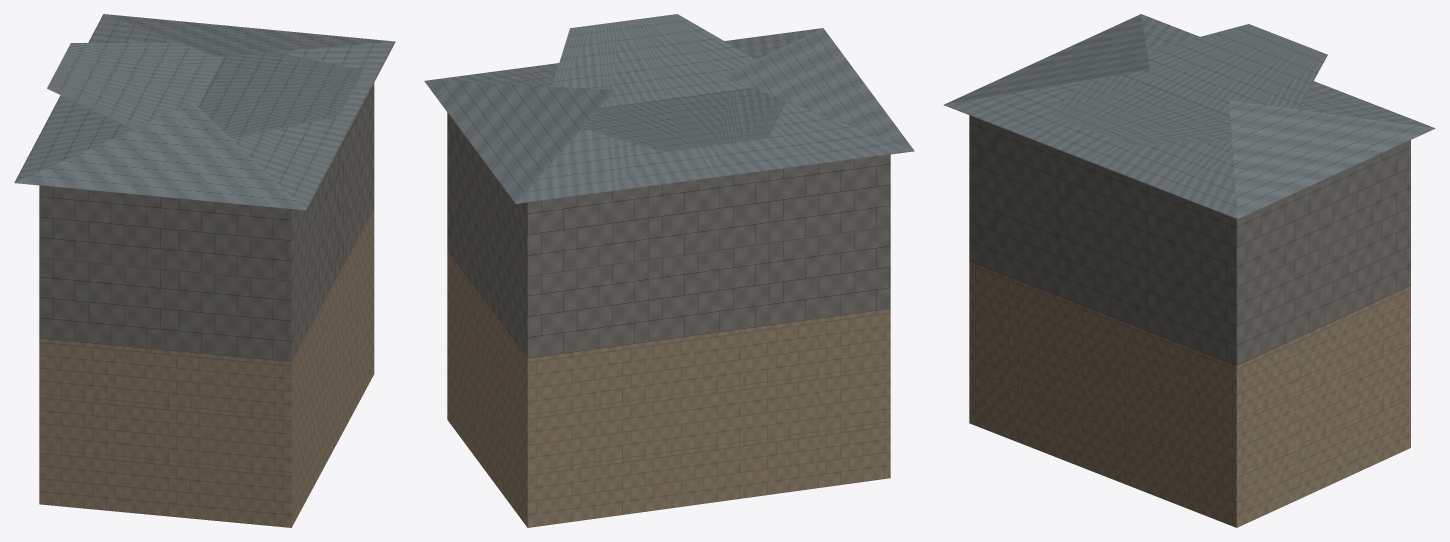
The model's file is bld_c40_-2_593.gltf.
The picture shows the model from 3 angles, left to right: view 1: azimuth 30°, elevation 25°; view 2: azimuth 150°, elevation 25°; view 3: azimuth 270°, elevation 25°; orthographic projection. The views are drawn at different scales.
Parts seen in each view (by area): view 1: bld_c40_-2_593; view 2: bld_c40_-2_593; view 3: bld_c40_-2_593.
Boxes of the visible parts, x1=… form: bld_c40_-2_593: x1=14, y1=14, x2=395, y2=527; bld_c40_-2_593: x1=424, y1=14, x2=914, y2=527; bld_c40_-2_593: x1=944, y1=14, x2=1435, y2=527.
Bounding box in the file's own units: 13.81 × 11 × 13.99.
3 materials, 3 textured.
